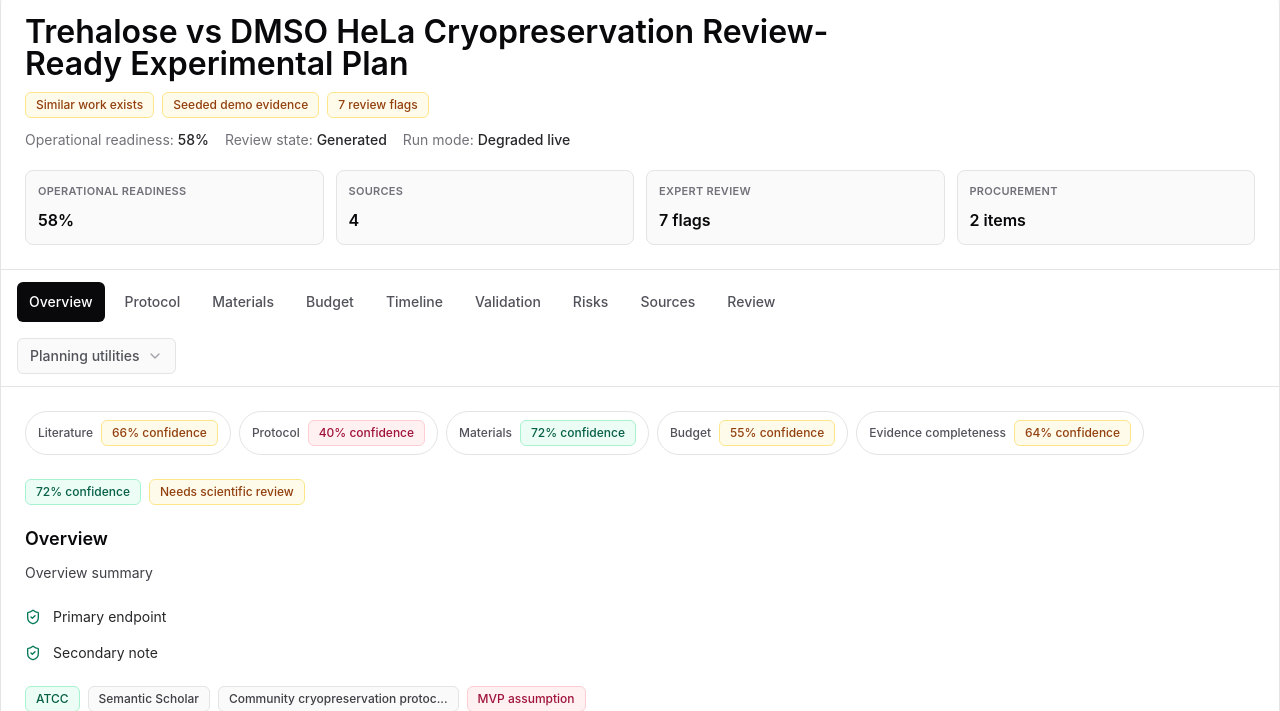
Test case: PlanTabs › renders the Sources tab with trust tier, evidence class, and usage
Click the button "Sources" at (668, 302), box [628,282,707,322]
(page scrolled)
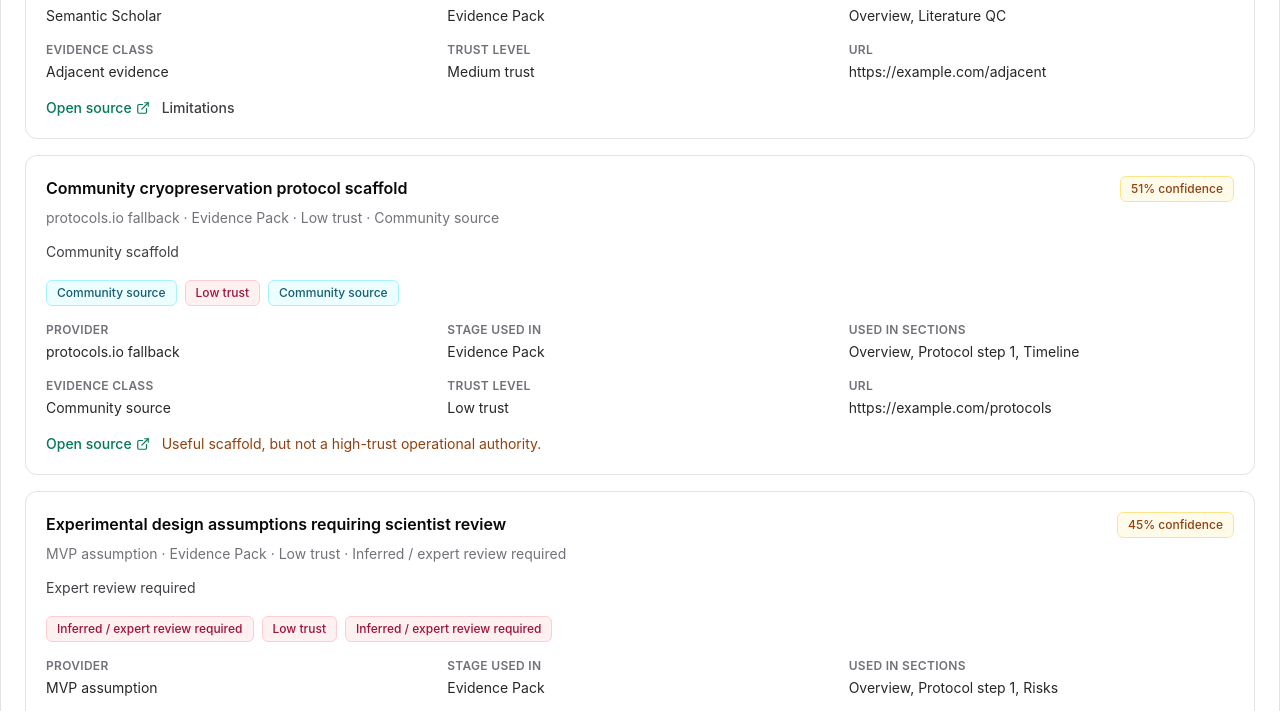
Now the 1st text "Community source" is shown, box [57,284,166,300]
Now the 1st text "Inferred / expert review required" is shown, box [57,620,242,636]
Now the text "Overview, Protocol step 1, Timeline" is shown, box [849,342,1079,360]
